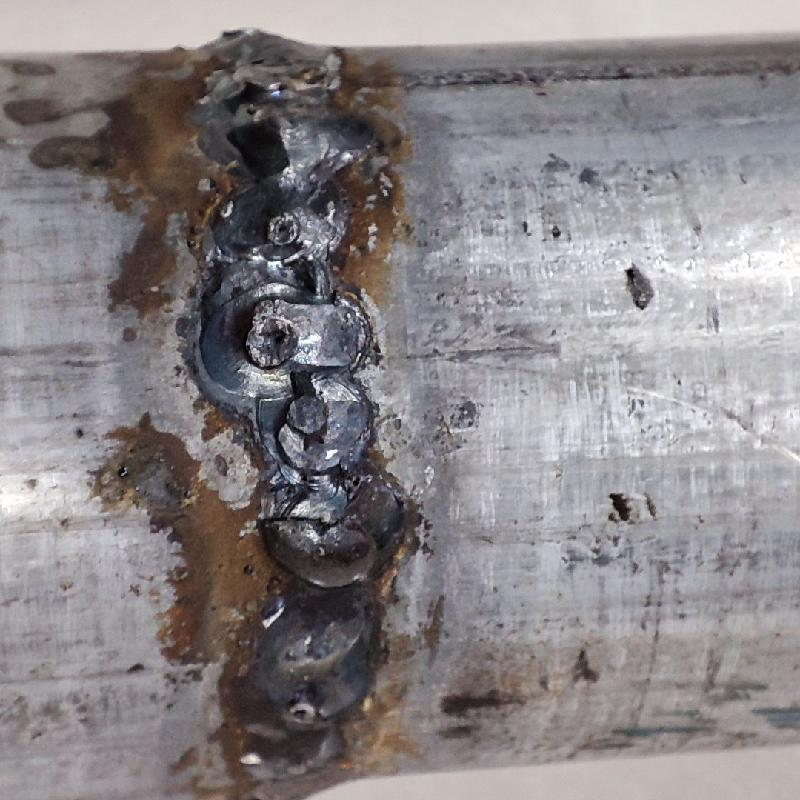Surface_pores: (161, 21, 388, 784), (257, 320, 296, 356), (261, 210, 307, 238), (229, 99, 277, 125), (285, 697, 316, 726)
Weld: (254, 507, 387, 587)
